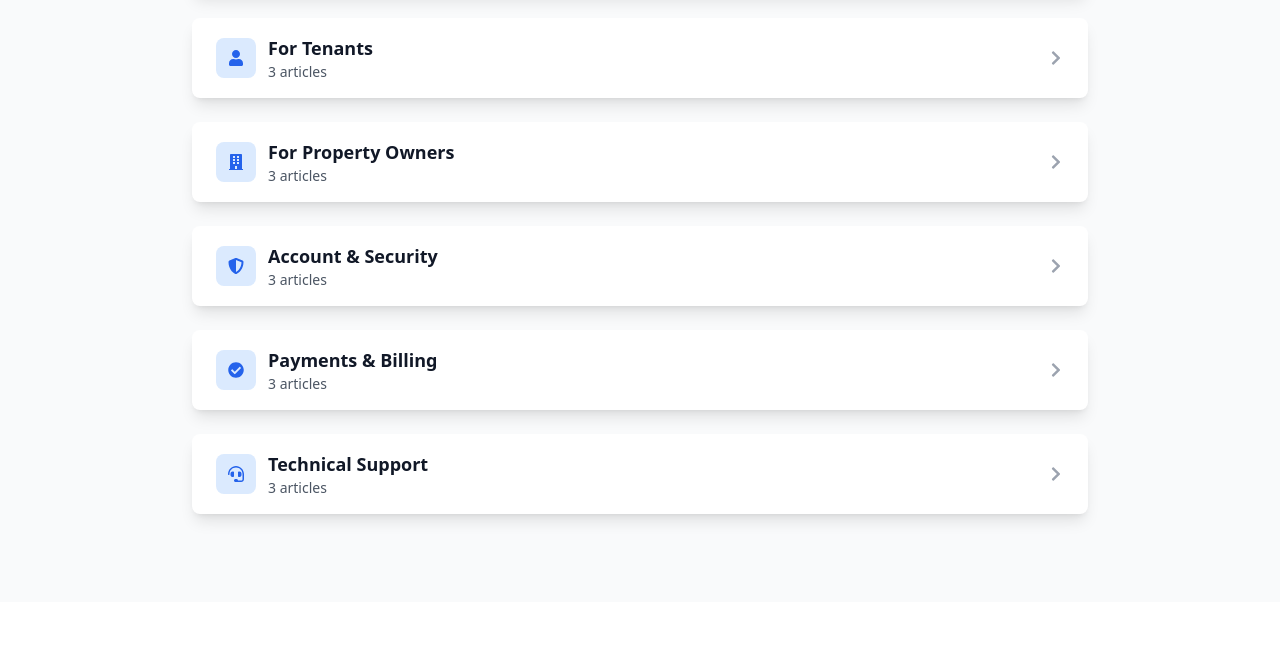
Scenario: HelpPage › displays payment-specific help questions
(page scrolled)
Click the heading "Payments & Billing" at (353, 360), box x1=268 y1=346 x2=438 y2=374
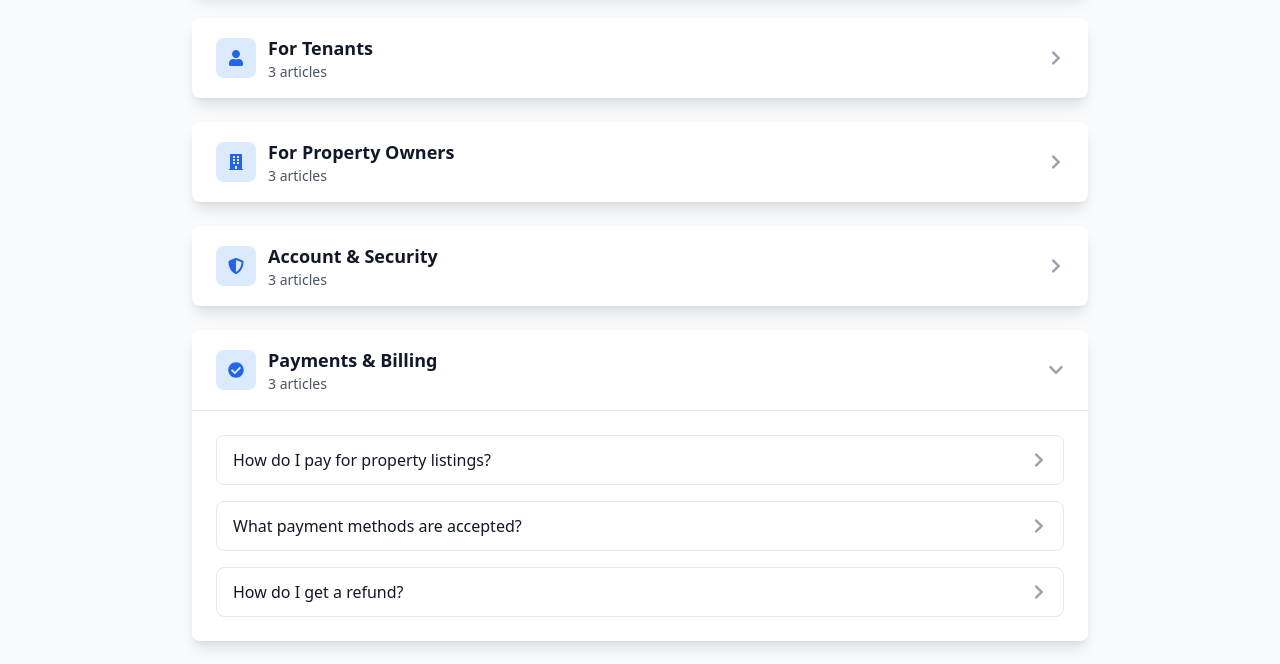
expect the text "How do I pay for property listings?" is shown: met, box x1=233 y1=448 x2=491 y2=472
expect the text "What payment methods are accepted?" is shown: met, box x1=233 y1=514 x2=522 y2=538
expect the text "How do I get a refund?" is shown: met, box x1=233 y1=580 x2=404 y2=604
